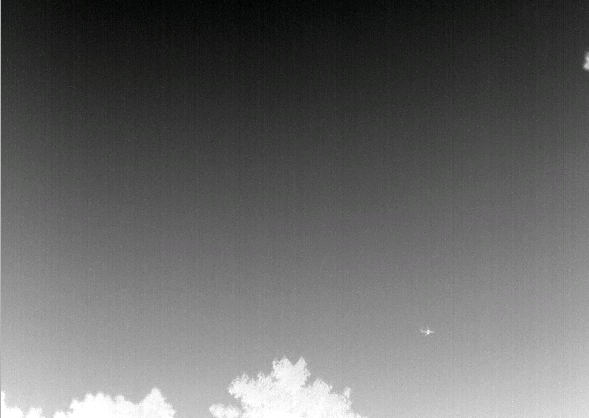dim target: (420, 326, 436, 336)
